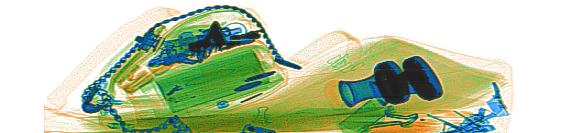seal: (366, 54, 446, 107), (332, 57, 410, 109)
